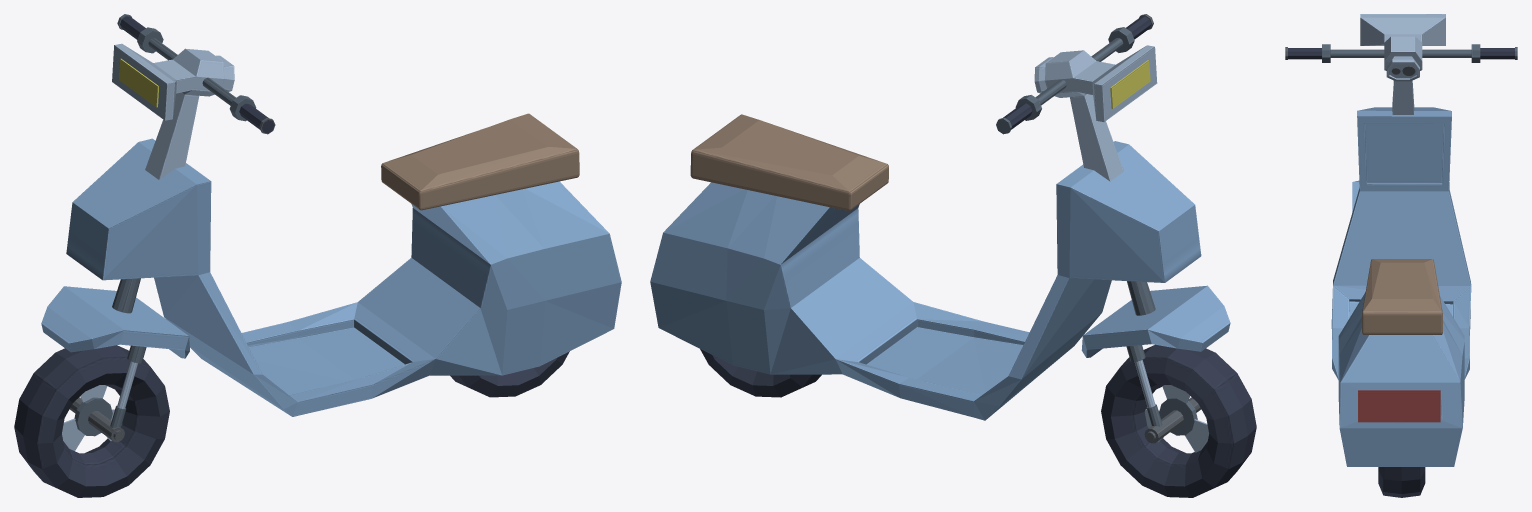
File: ParkedScooter.obj
3 views of the same model, side by side, from view 1: azimuth 30°, elevation 25°; view 2: azimuth 150°, elevation 25°; view 3: azimuth 270°, elevation 25° (orthographic). The views are drawn at different scales.
Parts seen in each view (by area): view 1: Node_Mesh; view 2: Node_Mesh; view 3: Node_Mesh.
Part boxes in pixels (x1=…): Node_Mesh: x1=14, y1=14, x2=621, y2=497; Node_Mesh: x1=650, y1=14, x2=1256, y2=497; Node_Mesh: x1=1285, y1=14, x2=1517, y2=497.
Bounding box in the file's own units: 1.83 × 1.29 × 0.8073.
Materials: 1 (1 with a texture image).
